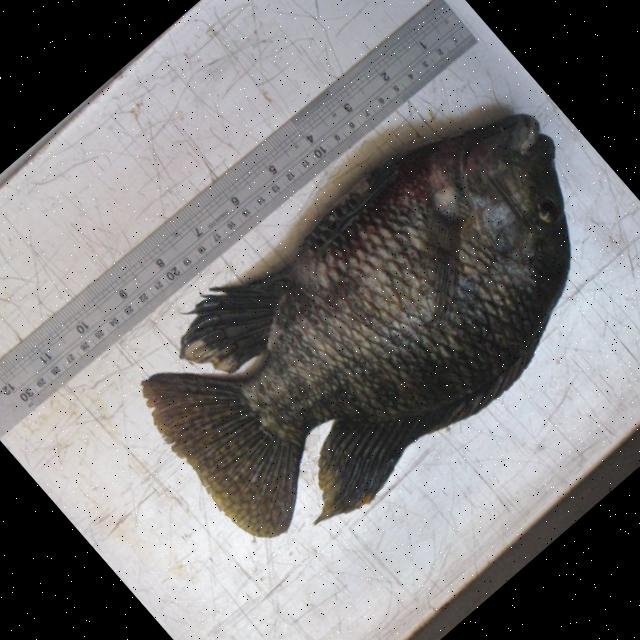ikan: (103, 50, 640, 587)
